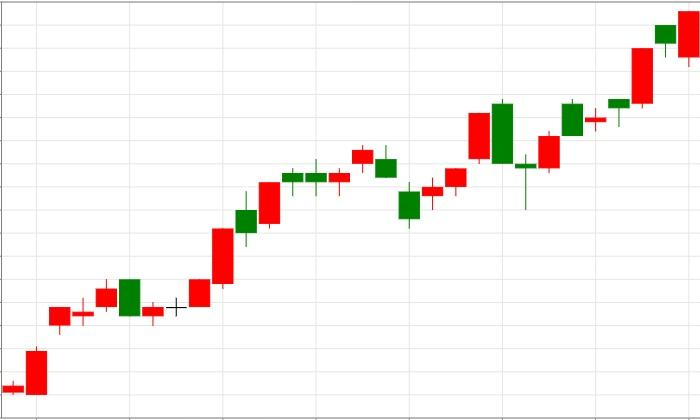bearish_engulfing_fall: (2, 279, 141, 395), (398, 99, 514, 230)
